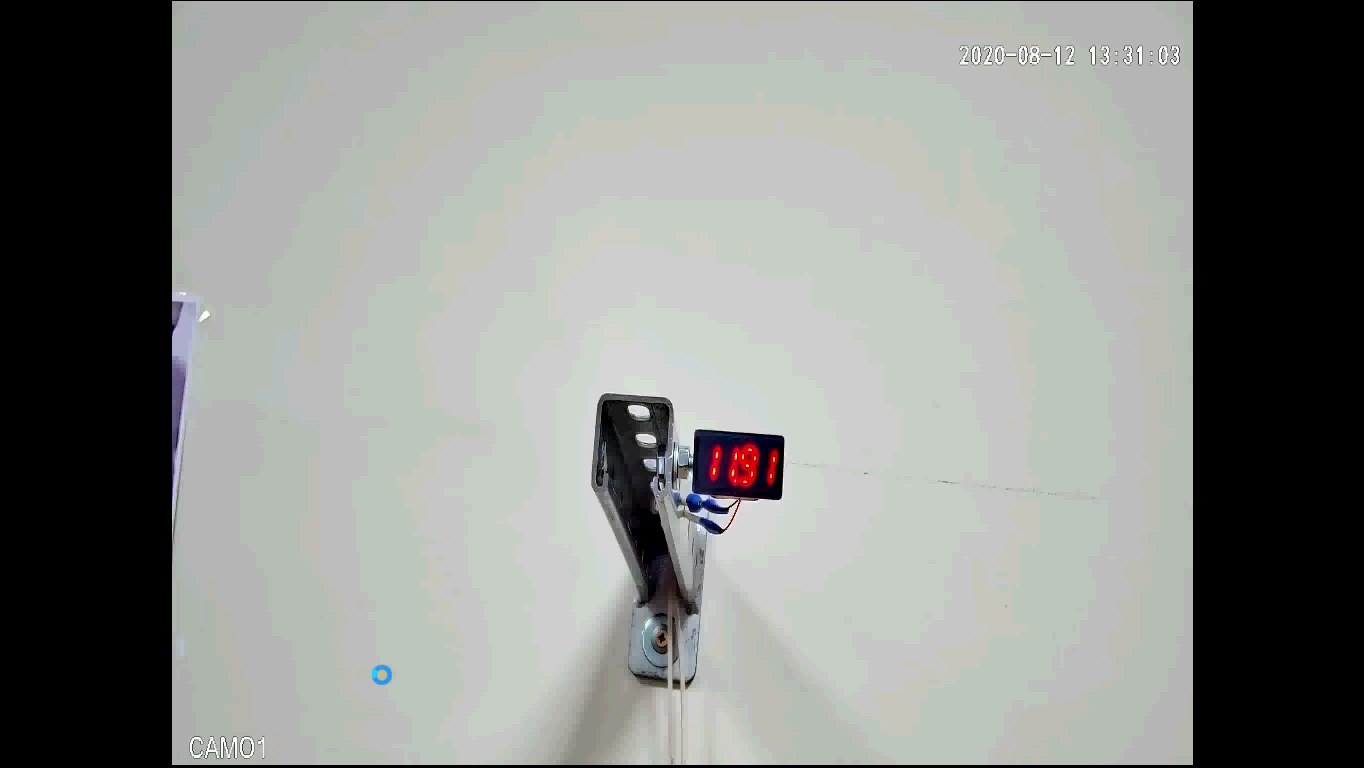one: (706, 440, 722, 484), (728, 442, 739, 486), (768, 445, 778, 489)
